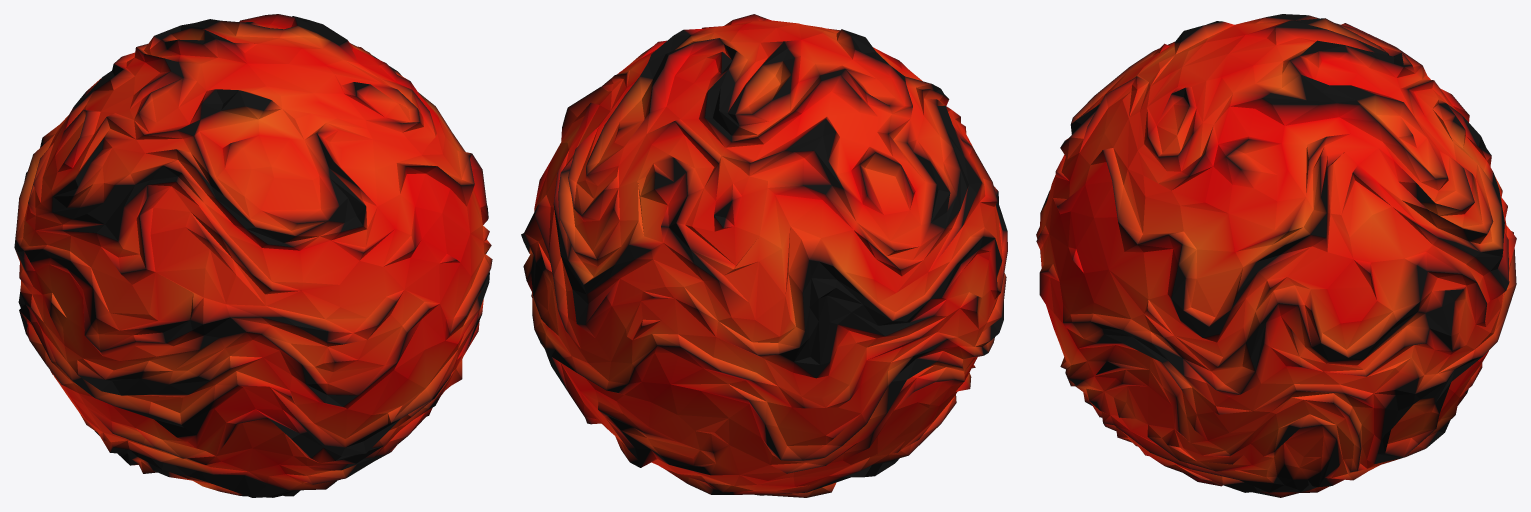
Rendered from VolcanicPlanet.fbx.
The picture shows the model from 3 angles, left to right: view 1: azimuth 30°, elevation 25°; view 2: azimuth 150°, elevation 25°; view 3: azimuth 270°, elevation 25°; orthographic projection.
Visible parts, largest first — view 1: filecache2; view 2: filecache2; view 3: filecache2.
Part boxes in pixels (left/top/right/bottom): filecache2: left=14, top=14, right=492, bottom=497; filecache2: left=521, top=14, right=1007, bottom=497; filecache2: left=1036, top=14, right=1516, bottom=497.
Size of the model in its own units: 2.06 by 2.09 by 2.06.
